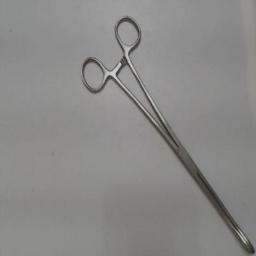Sponge Forceps: (76, 11, 256, 255)
